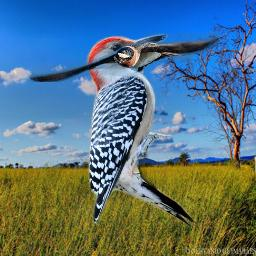Swallow: (28, 32, 219, 82)
Woodpecker: (77, 26, 206, 241)
